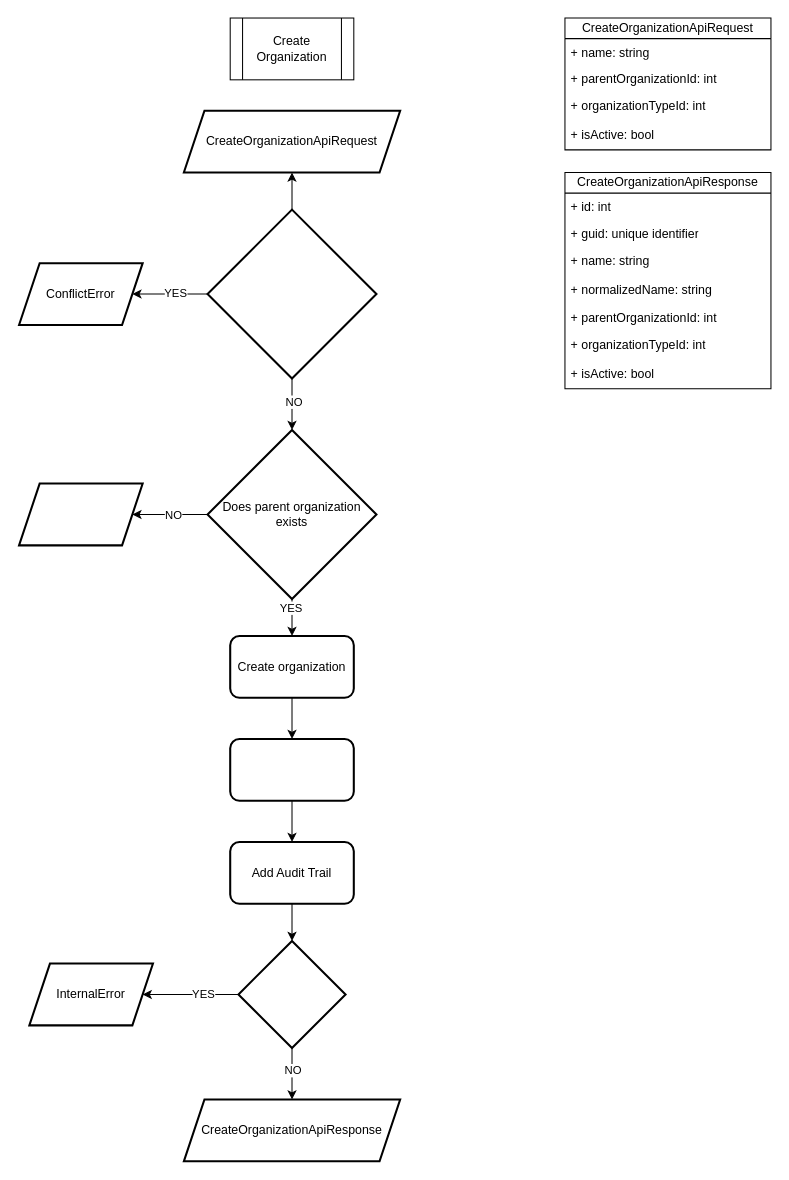
Some shapes in this 789 by 1180 pixel diagram are drawn without their labels. Each missing label, with the centre of its shape:
"Add organization relations" goes at (x=291, y=769).
"Does organization with such name exists" goes at (x=291, y=293).
"Exception?" goes at (x=291, y=994).
"ForbiddenError" goes at (x=80, y=514).
